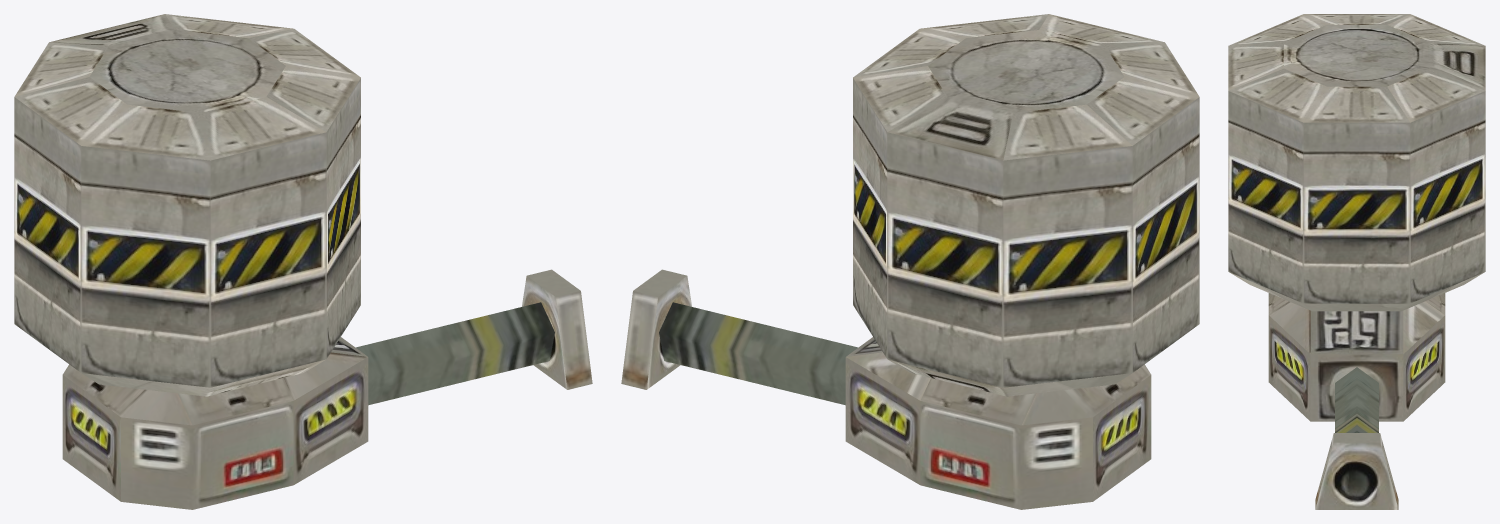
The model's file is pipetank_hdtex.glb.
3 renders of one model, left to right at view 1: azimuth 30°, elevation 25°; view 2: azimuth 150°, elevation 25°; view 3: azimuth 270°, elevation 25°, orthographic. The views are drawn at different scales.
Parts seen in each view (by area): view 1: Pipetank; view 2: Pipetank; view 3: Pipetank.
Boxes of the visible parts, box(x1,y1,x2,y2) form: Pipetank: box(14, 14, 592, 509); Pipetank: box(621, 14, 1199, 509); Pipetank: box(1228, 14, 1485, 509).
Size of the model in its own units: 17.5 by 12.44 by 9.45.
Materials: 1 (1 with a texture image).
